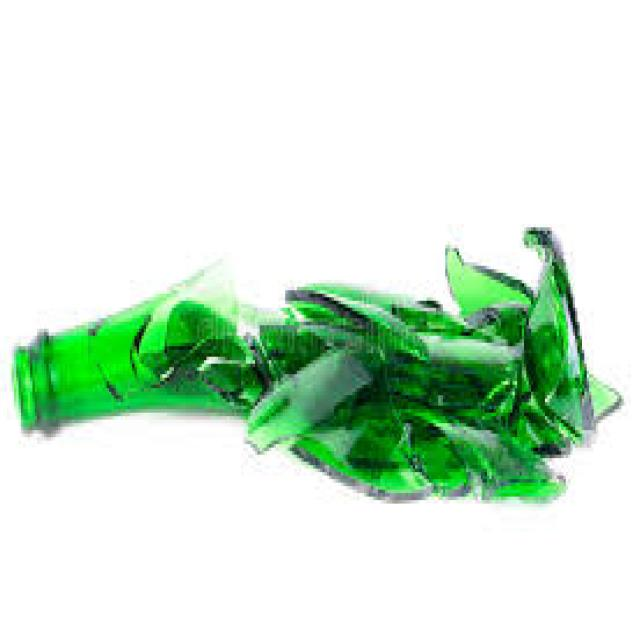glass: (12, 259, 269, 430), (446, 241, 622, 423), (257, 318, 522, 423), (290, 399, 468, 493), (397, 399, 561, 497), (520, 224, 592, 434), (244, 346, 369, 444), (283, 280, 431, 350), (466, 364, 571, 451), (404, 297, 492, 336)
